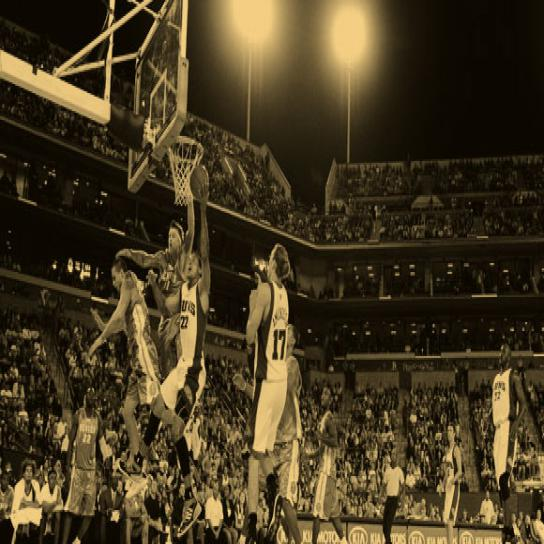basketball-hoop: (166, 132, 204, 206)
